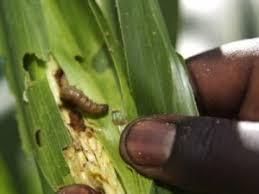fallarmy_worm: (56, 79, 112, 123)
